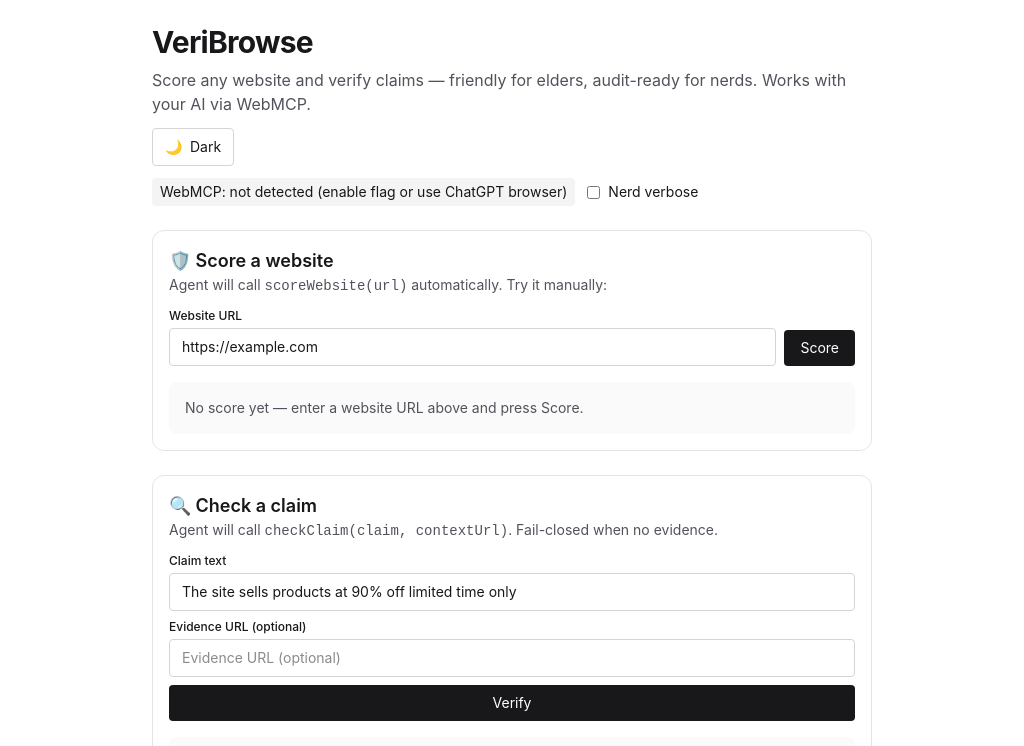
Test case: Nerd-view timeout presets › Standard preset sets input.value to String(config timeoutMs.default)
The width and height of the screenshot is (1024, 746).
Click the checkbox labelled "Nerd verbose".
click(594, 192)  # box [587,186,600,198]
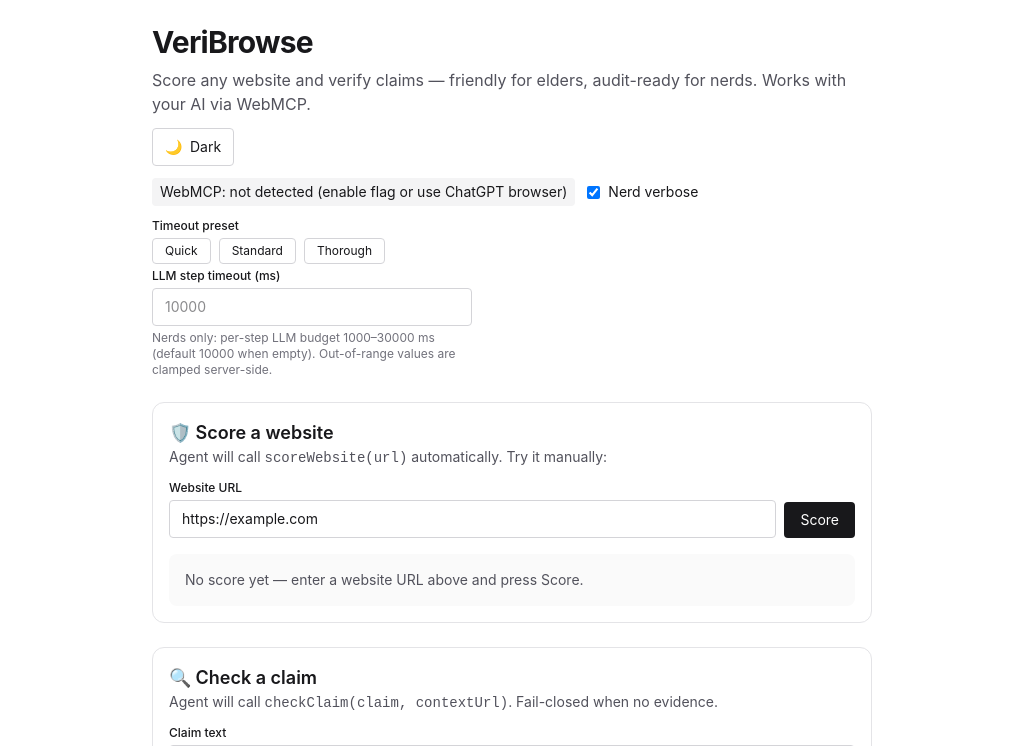
Click the button "Standard".
click(257, 251)  # box [219,238,296,264]
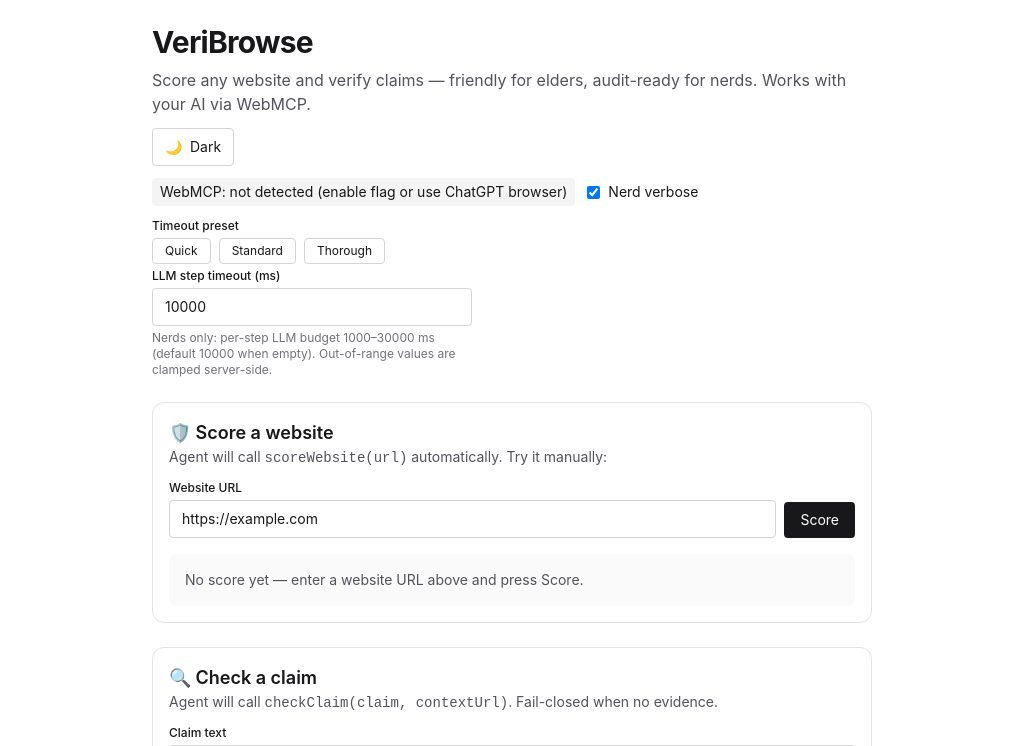
Result: the number field with id "llm-timeout" holds "10000" at [152,288,472,326]
